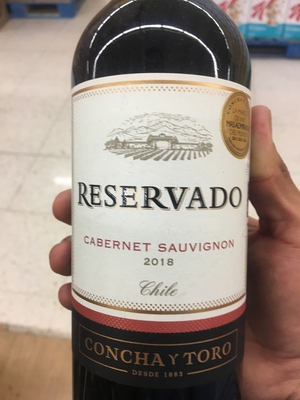reservado cabernet sauvignon: (70, 6, 253, 399)
